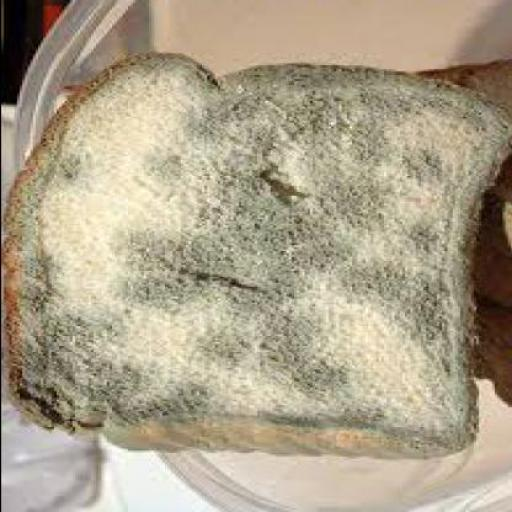biodegradable: (1, 56, 510, 462), (396, 60, 510, 409)
